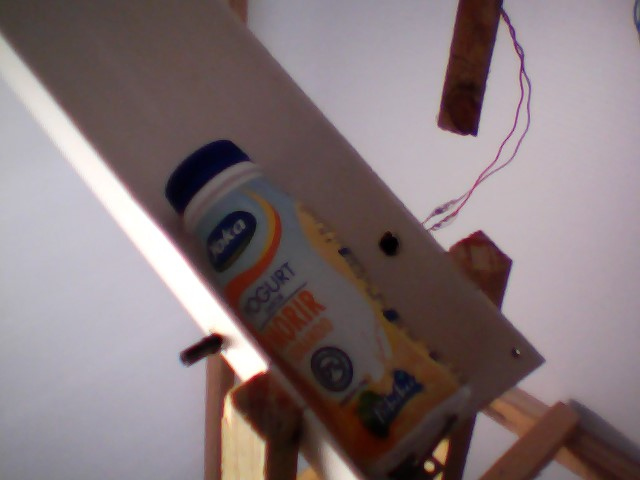plastico: (157, 137, 473, 479)
